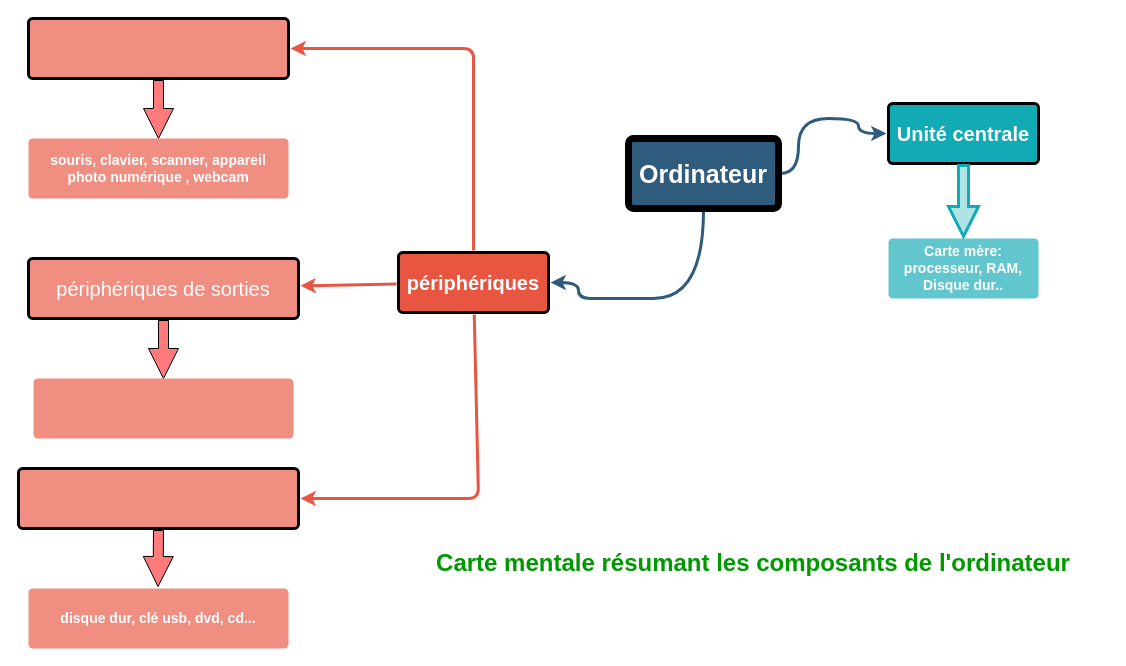
Some shapes in this 1126 by 666 pixel diagram are drawn without their labels. The shapes that lost their labels are listed below. From the top down, each one's centre as x and y in pixels, then its label:
point 158,48: périphériques d'entrées
point 163,408: ecran, imprimante, haut-parleur
point 158,498: périphériques de stockages
